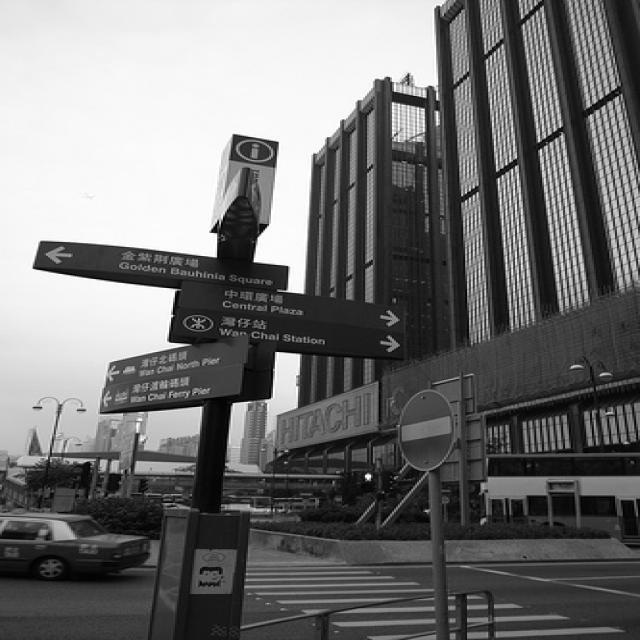Vehicle: (0, 510, 150, 580)
